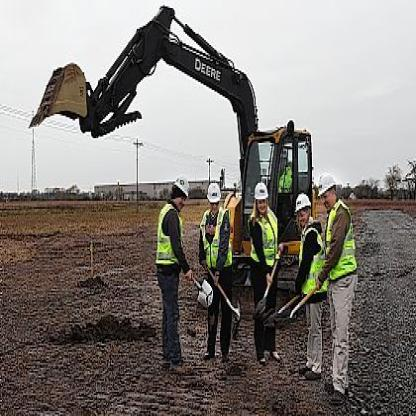person: (318, 164, 367, 403), (193, 167, 236, 365), (153, 166, 193, 372), (243, 167, 278, 381), (291, 183, 323, 406)
